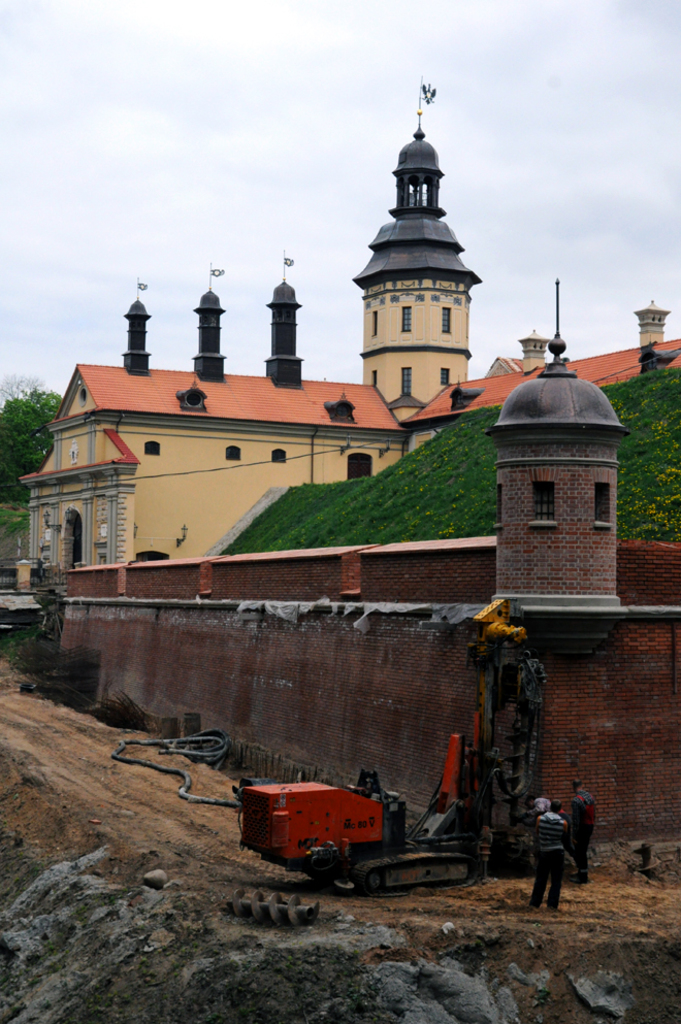Tree: (0, 385, 56, 505)
